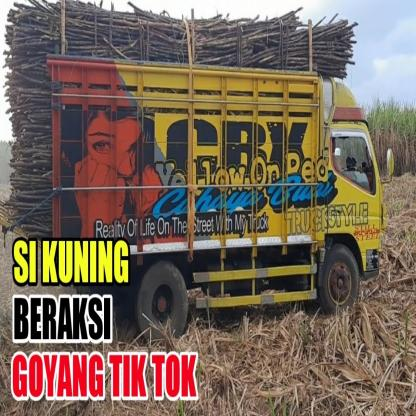truck: (50, 57, 397, 334)
